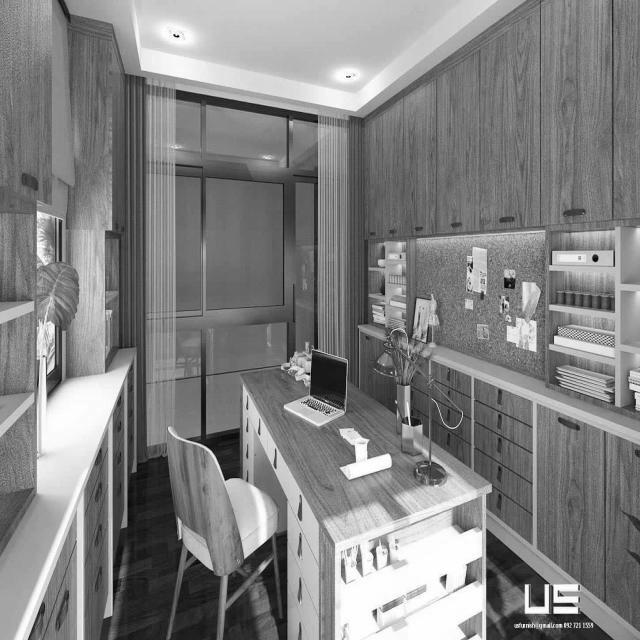table: (233, 344, 498, 592)
